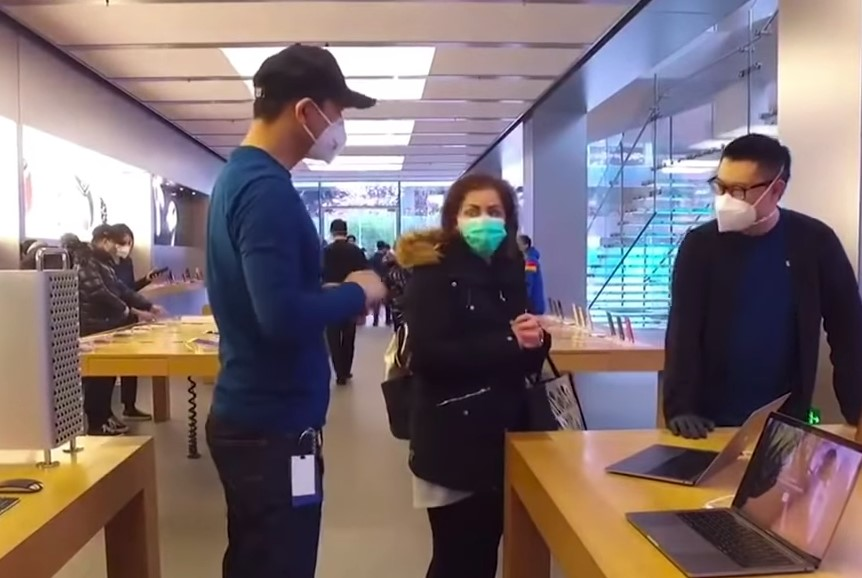face_with_mask: (248, 41, 370, 165), (705, 129, 789, 231), (443, 174, 517, 254), (113, 223, 137, 260)
